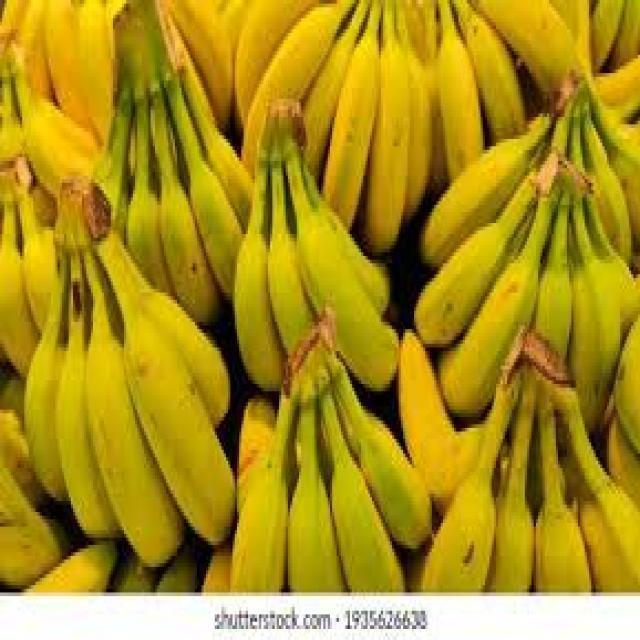Banana: (25, 182, 236, 564), (418, 74, 635, 416), (430, 330, 640, 596), (236, 324, 428, 596), (91, 1, 252, 318), (230, 95, 399, 395), (246, 0, 429, 249)
